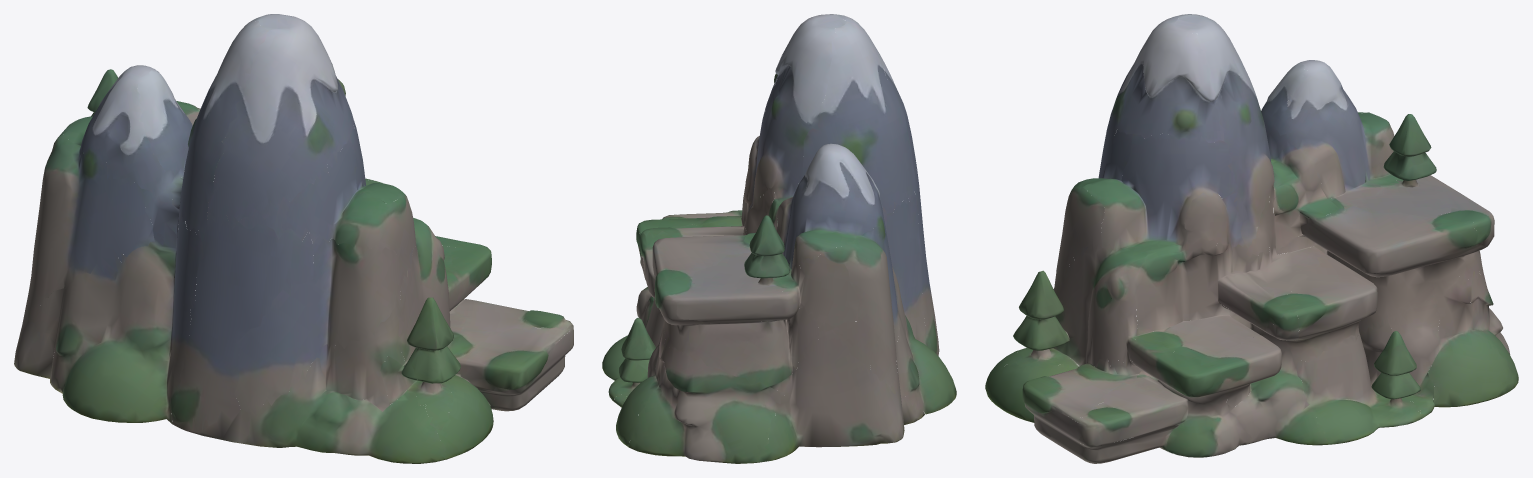
The model's file is toy-mountain.glb.
3 renders of one model, left to right at view 1: azimuth 30°, elevation 25°; view 2: azimuth 150°, elevation 25°; view 3: azimuth 270°, elevation 25°, orthographic. The views are drawn at different scales.
Parts seen in each view (by area): view 1: tripo_node_d9c95967-1aca-41eb-b97f-12d77a739846; view 2: tripo_node_d9c95967-1aca-41eb-b97f-12d77a739846; view 3: tripo_node_d9c95967-1aca-41eb-b97f-12d77a739846.
Part boxes in pixels (x1=…): tripo_node_d9c95967-1aca-41eb-b97f-12d77a739846: x1=14, y1=14, x2=573, y2=463; tripo_node_d9c95967-1aca-41eb-b97f-12d77a739846: x1=602, y1=14, x2=956, y2=463; tripo_node_d9c95967-1aca-41eb-b97f-12d77a739846: x1=985, y1=14, x2=1518, y2=463.
Size of the model in its own units: 0.8493 by 0.7302 by 1.03.
Materials: 1 (1 with a texture image).
